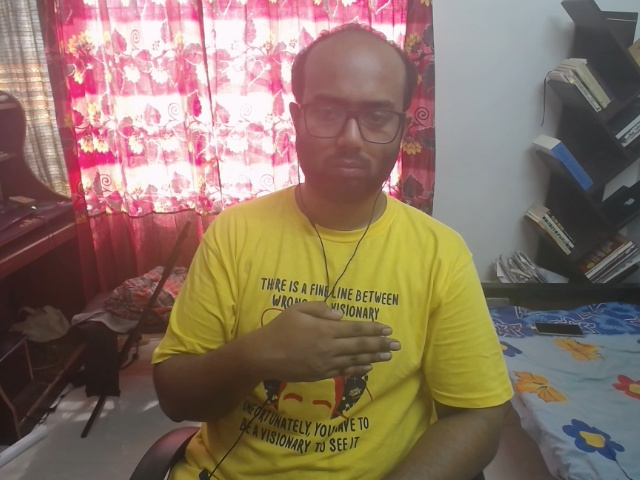north: (243, 263, 421, 406)
